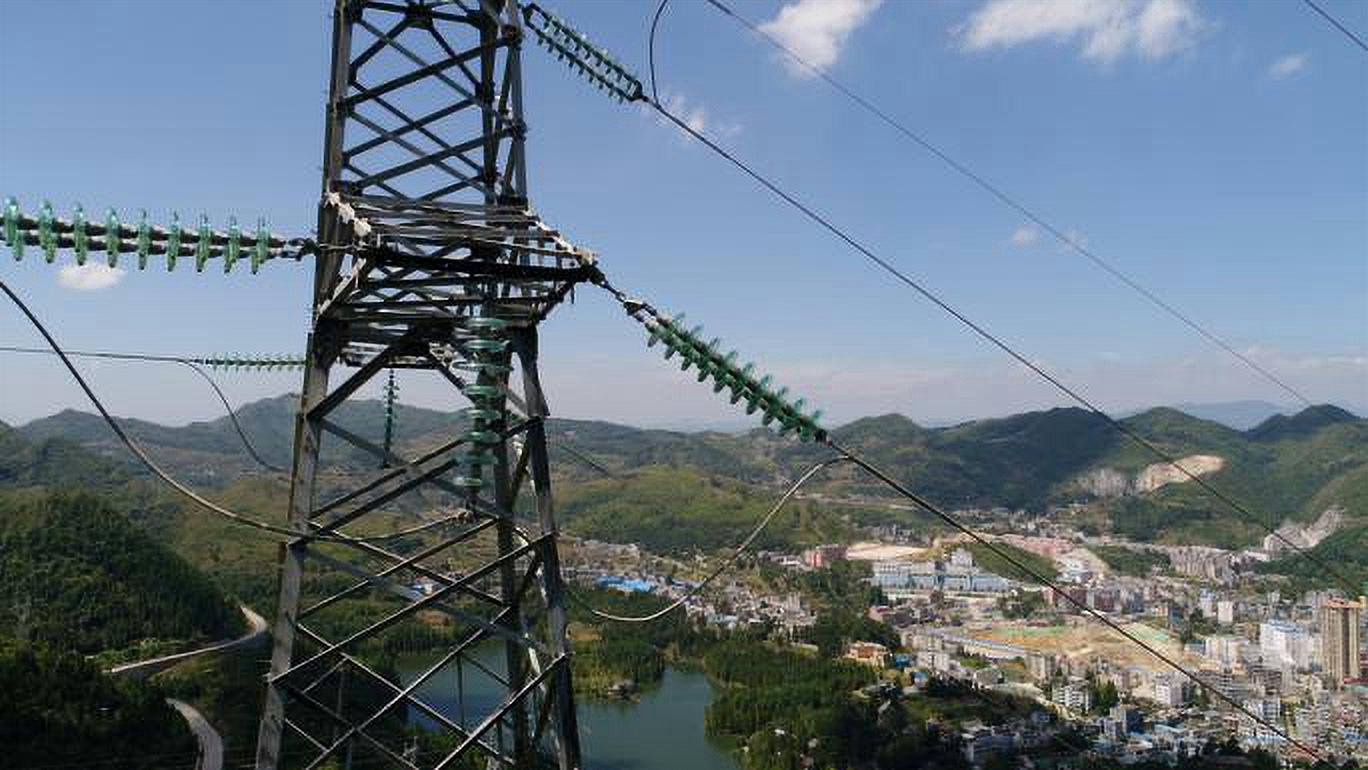insulator: (639, 306, 829, 449), (1, 192, 279, 282), (448, 313, 515, 493), (533, 10, 643, 110), (205, 347, 306, 375)
